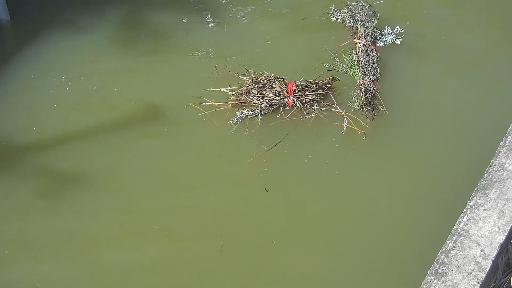twig: (304, 0, 413, 131), (224, 54, 350, 128)
